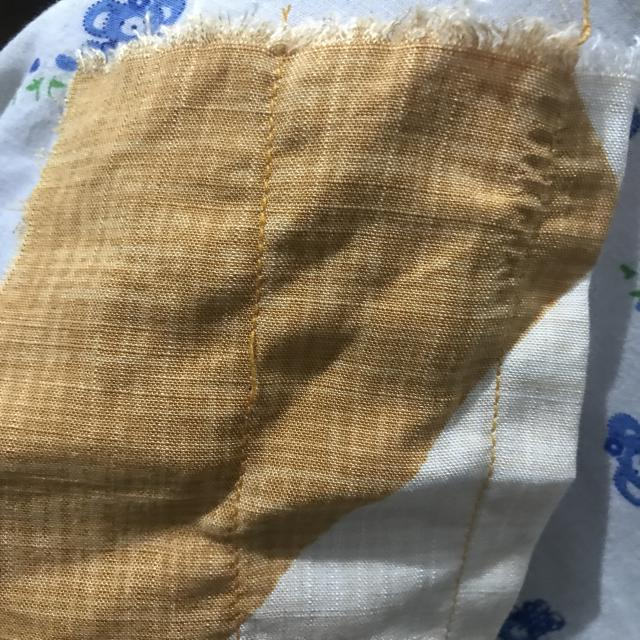good: (252, 152, 279, 255)
skip: (238, 312, 280, 409)
